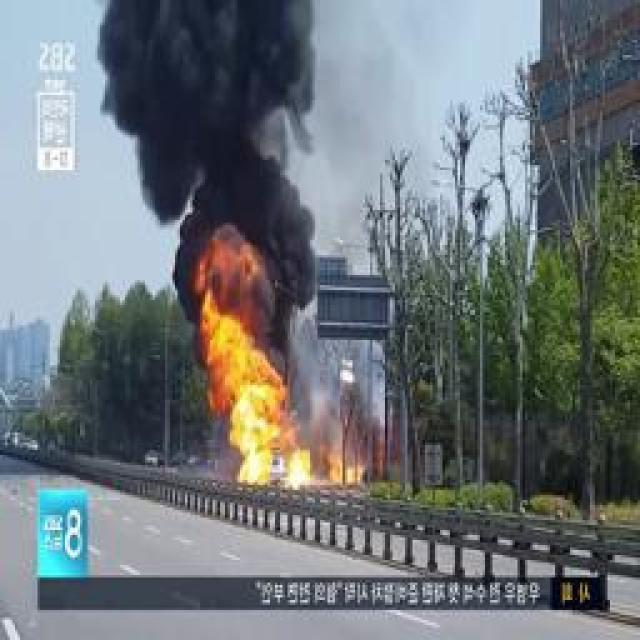Fire: (239, 372, 288, 486), (203, 302, 247, 380), (291, 441, 310, 489), (213, 383, 238, 417), (329, 461, 363, 484)
